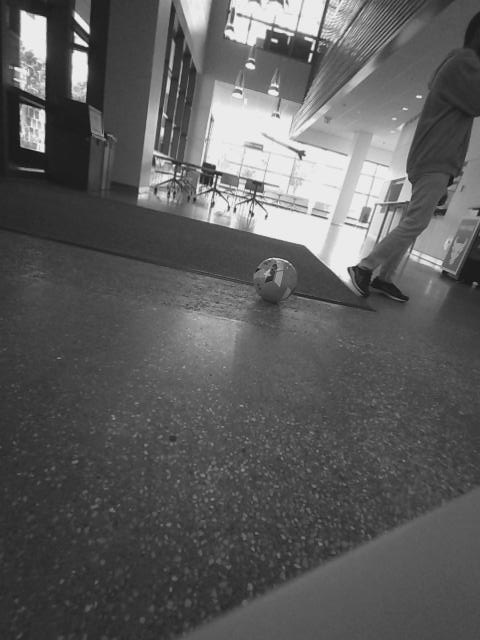ball: (249, 254, 301, 306)
